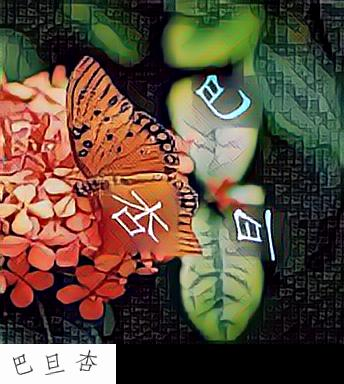character: (104, 187, 179, 251), (190, 70, 253, 125), (226, 203, 279, 263)
